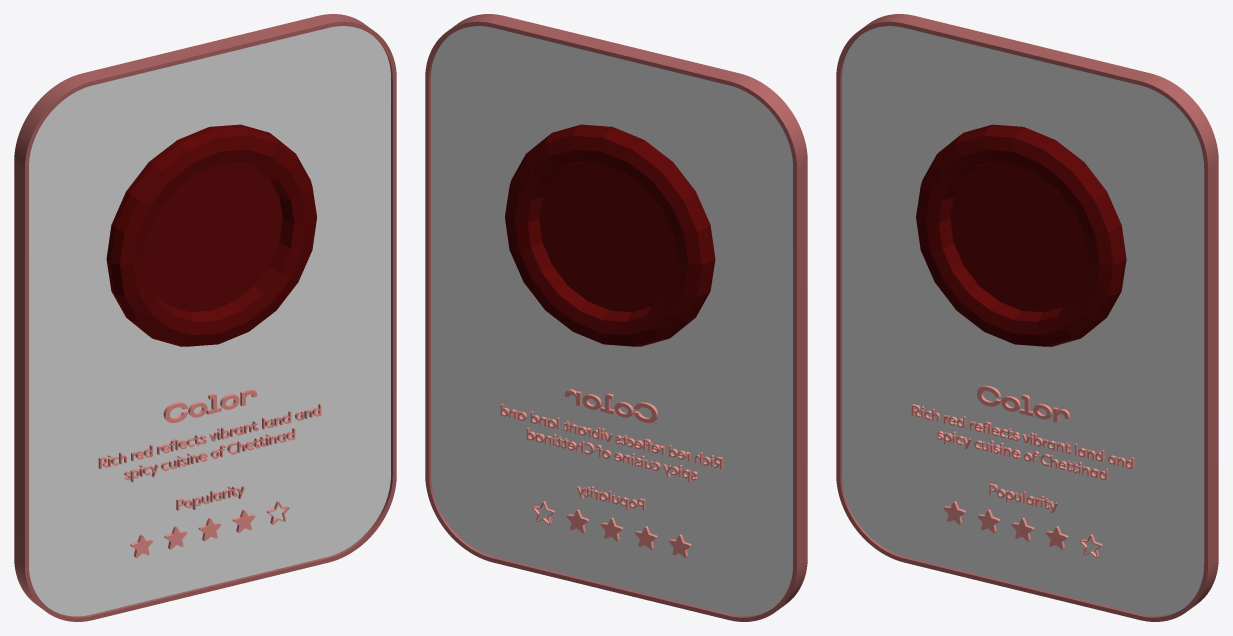
File: chettiColor.glb
3 renders of one model, left to right at view 1: azimuth 30°, elevation 25°; view 2: azimuth 150°, elevation 25°; view 3: azimuth 330°, elevation 25°, orthographic.
Parts seen in each view (by area): view 1: Mesh_2717.001, Coin.001, Mesh_2364.002, Mesh_2384.002, Mesh_2623.002, Mesh_1399.002; view 2: Mesh_2717.001, Coin.001, Mesh_2364.002, Mesh_2384.002, Mesh_2623.002, Mesh_1399.002; view 3: Mesh_2717.001, Coin.001, Mesh_2364.002, Mesh_2384.002, Mesh_2623.002, Mesh_1399.002.
Part boxes in pixels (bbox=[...]): Mesh_2717.001: bbox=[29, 26, 390, 616]; Coin.001: bbox=[106, 124, 316, 346]; Mesh_2364.002: bbox=[14, 14, 396, 621]; Mesh_2384.002: bbox=[98, 403, 321, 510]; Mesh_2623.002: bbox=[130, 501, 289, 557]; Mesh_1399.002: bbox=[163, 389, 257, 422]; Mesh_2717.001: bbox=[431, 26, 792, 616]; Coin.001: bbox=[505, 124, 715, 346]; Mesh_2364.002: bbox=[425, 14, 807, 621]; Mesh_2384.002: bbox=[500, 403, 723, 510]; Mesh_2623.002: bbox=[532, 501, 691, 557]; Mesh_1399.002: bbox=[564, 389, 658, 422]; Mesh_2717.001: bbox=[842, 26, 1204, 616]; Coin.001: bbox=[916, 124, 1126, 346]; Mesh_2364.002: bbox=[836, 14, 1218, 621]; Mesh_2384.002: bbox=[911, 404, 1134, 513]; Mesh_2623.002: bbox=[943, 501, 1102, 557]; Mesh_1399.002: bbox=[977, 385, 1070, 422].
Bounding box in the file's own units: 9.06 × 12.55 × 1.25.
